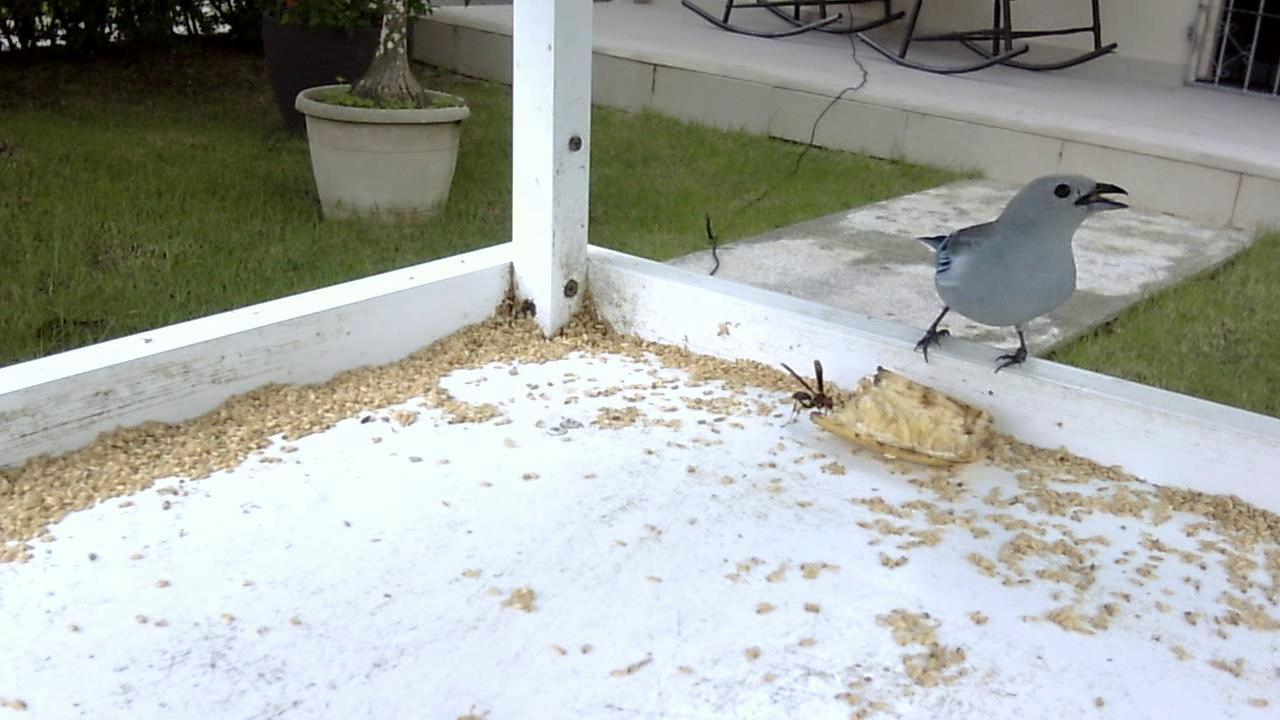sanhaco_da_amazonia: (901, 162, 1128, 384)
